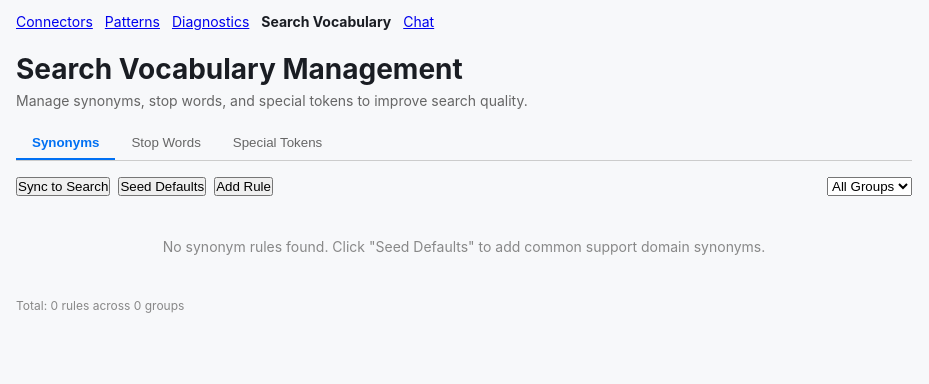
Test: SynonymManagementPage › switches to Special Tokens tab and shows empty state
The width and height of the screenshot is (929, 384).
Click the button "Special Tokens" at (278, 144), box left=217, top=127, right=338, bottom=160
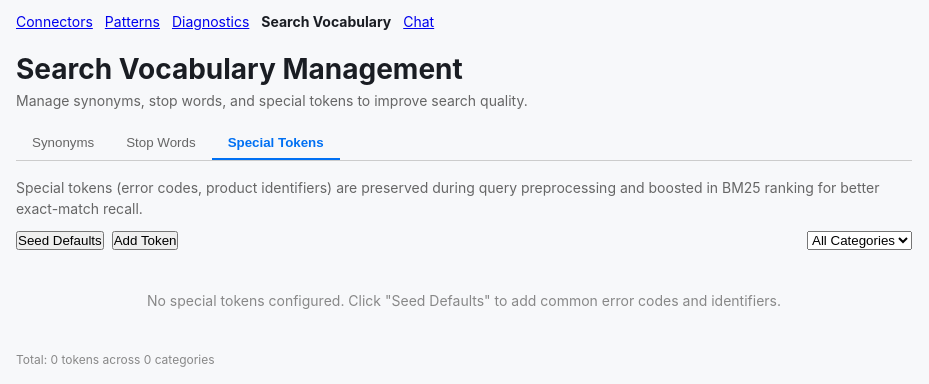
Check: the text "No special tokens configured" is shown, box left=147, top=292, right=781, bottom=309
